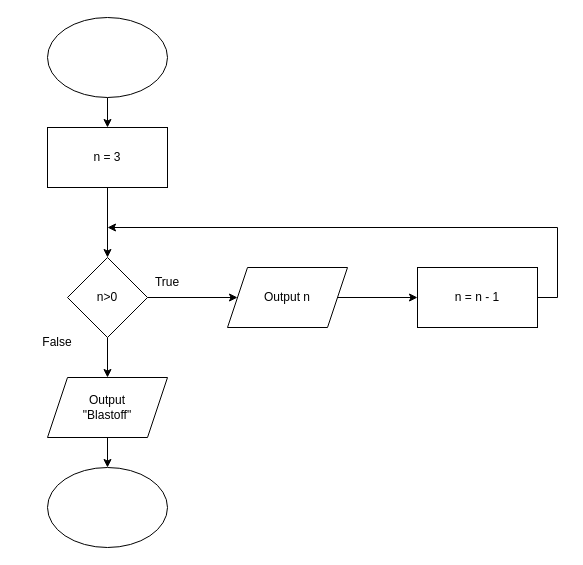
The diagram is 583 pixels wide and 565 high, and some of its shapes have lost their labels. The shapes that lost their labels are listed below. From the top down, each one's box as (x1, y1, x2, y2) in pixels, then its label:
(46, 16, 168, 98): Start
(46, 466, 168, 548): End
